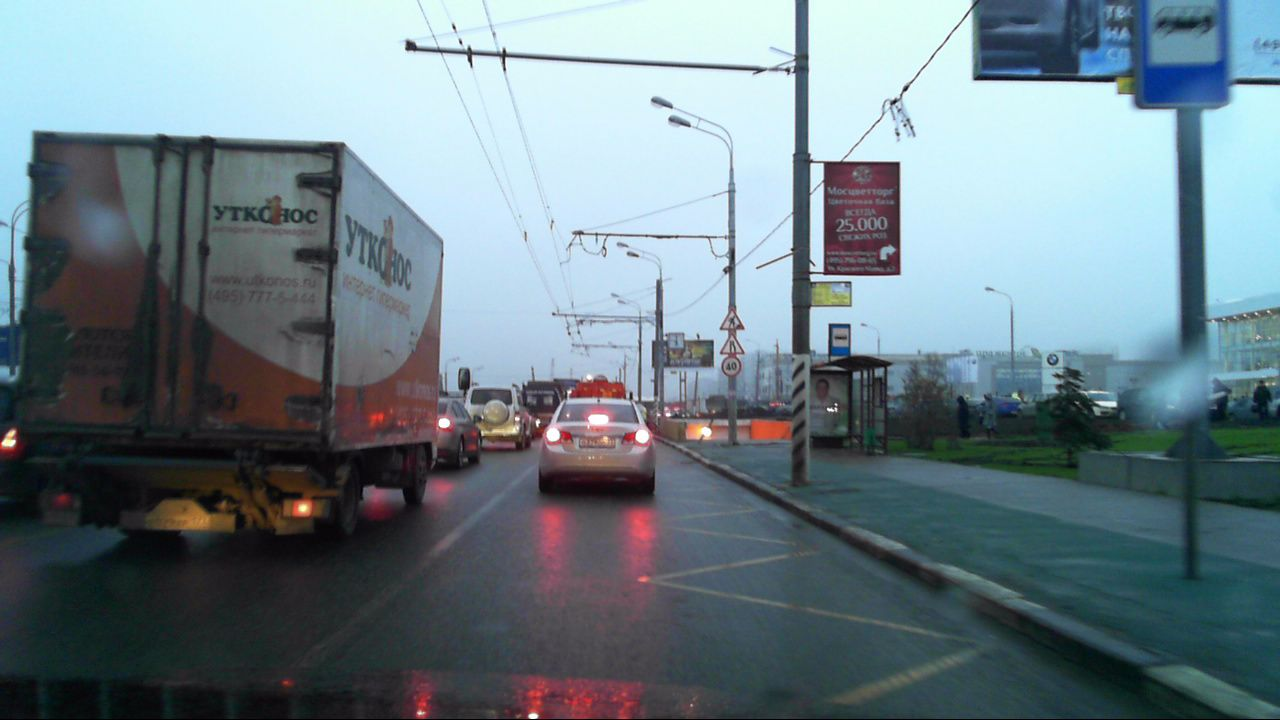speed_warning_40: (721, 356, 742, 376)
